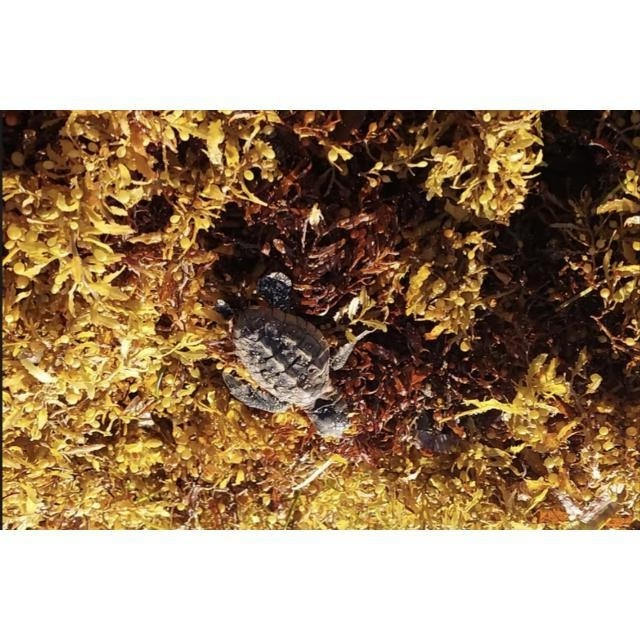turtle: (215, 273, 375, 439)
